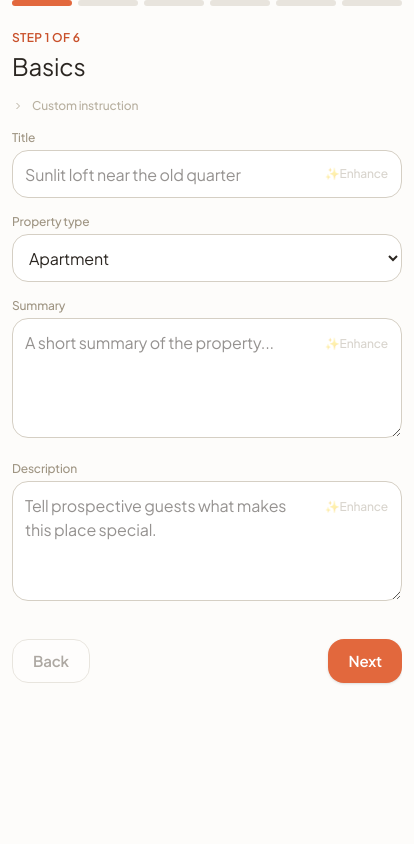
PropertyForm › allows going back to earlier steps via the back button
Type "Villa" into the field labelled "Title" at (207, 174), box top-left (12, 150), bottom-right (402, 198)
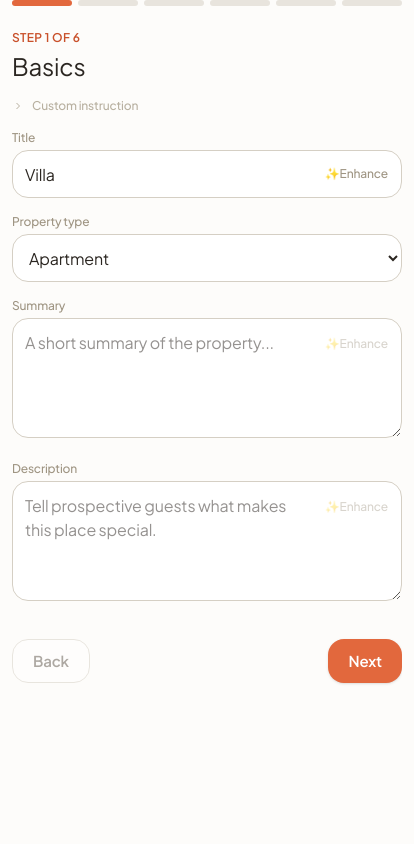
Click the button "Next" at (365, 661), box top-left (328, 639), bottom-right (402, 683)
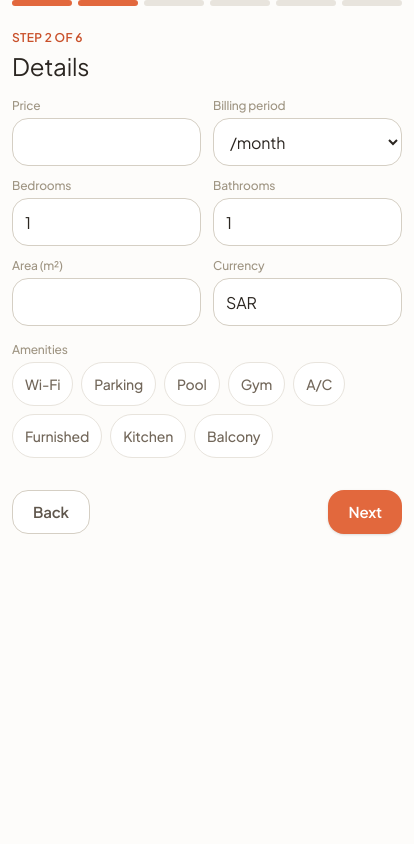
Check: the heading "Details" is shown, box top-left (12, 51), bottom-right (89, 81)
Click the button "Back" at (51, 512), box top-left (12, 490), bottom-right (90, 534)
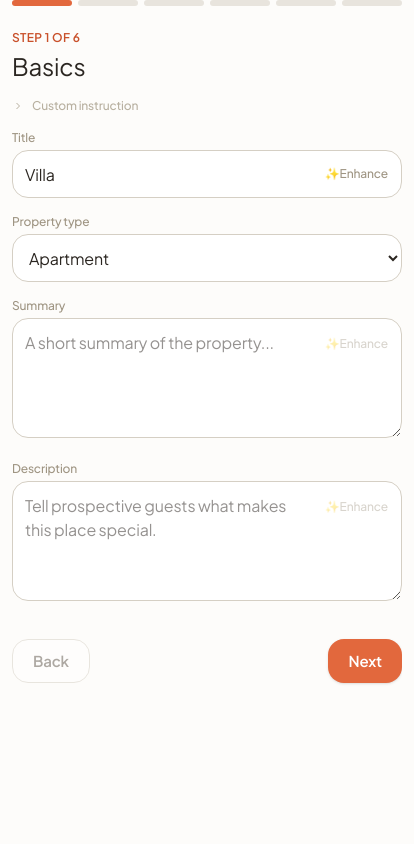
Check: the heading "Basics" is shown, box top-left (12, 51), bottom-right (86, 81)
Check: the field labelled "Title" holds "Villa", box top-left (12, 150), bottom-right (402, 198)
